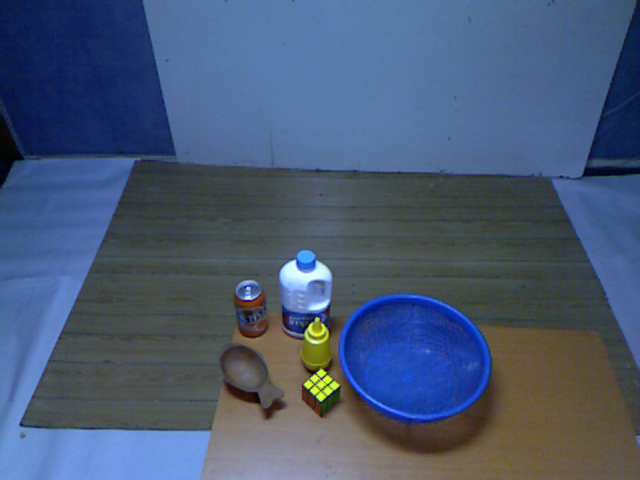cloro: (275, 249, 338, 342)
colador: (333, 289, 495, 428)
cubix: (298, 362, 345, 422)
lata: (231, 278, 270, 342)
mostaza: (297, 315, 336, 376)
pescado: (217, 338, 290, 416)
